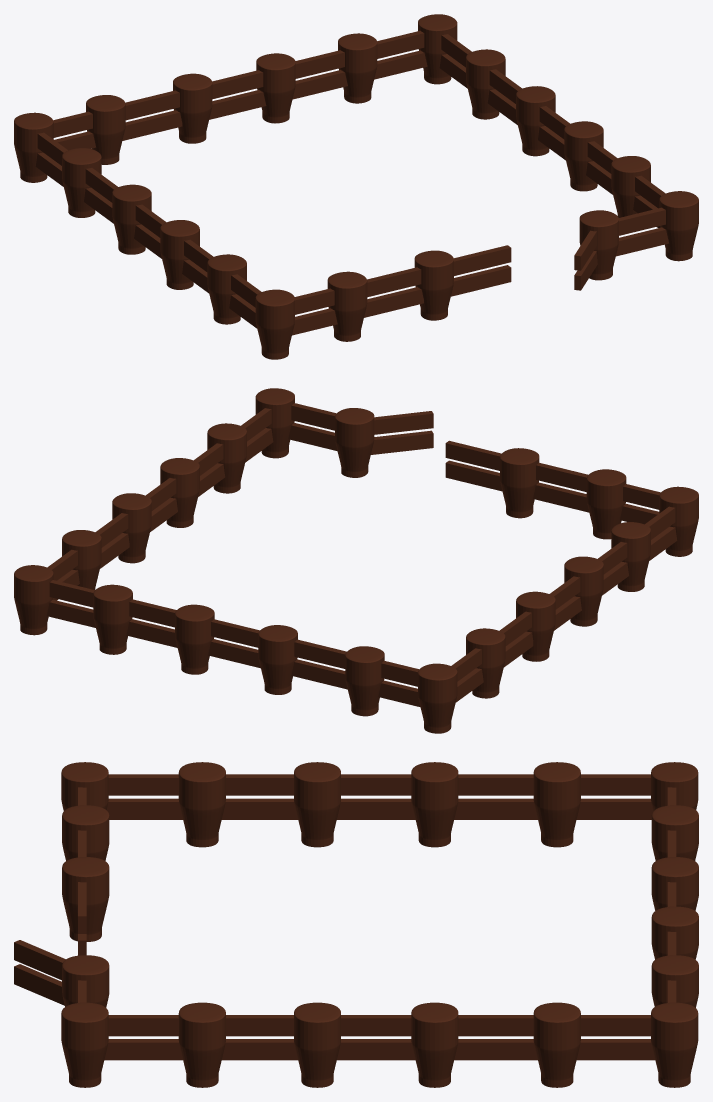
File: загон.fbx
3 views of the same model, one above another, from view 1: azimuth 30°, elevation 25°; view 2: azimuth 150°, elevation 25°; view 3: azimuth 270°, elevation 25° (orthographic). The views are drawn at different scales.
Parts seen in each view (by area): view 1: Объект_Ноль; view 2: Объект_Ноль; view 3: Объект_Ноль.
Boxes of the visible parts, x1,y1,x2,y2 form: Объект_Ноль: (14,14,698,359); Объект_Ноль: (14,388,698,733); Объект_Ноль: (14,762,698,1087).
Bounding box in the file's own units: 2408 × 304 × 2676.
